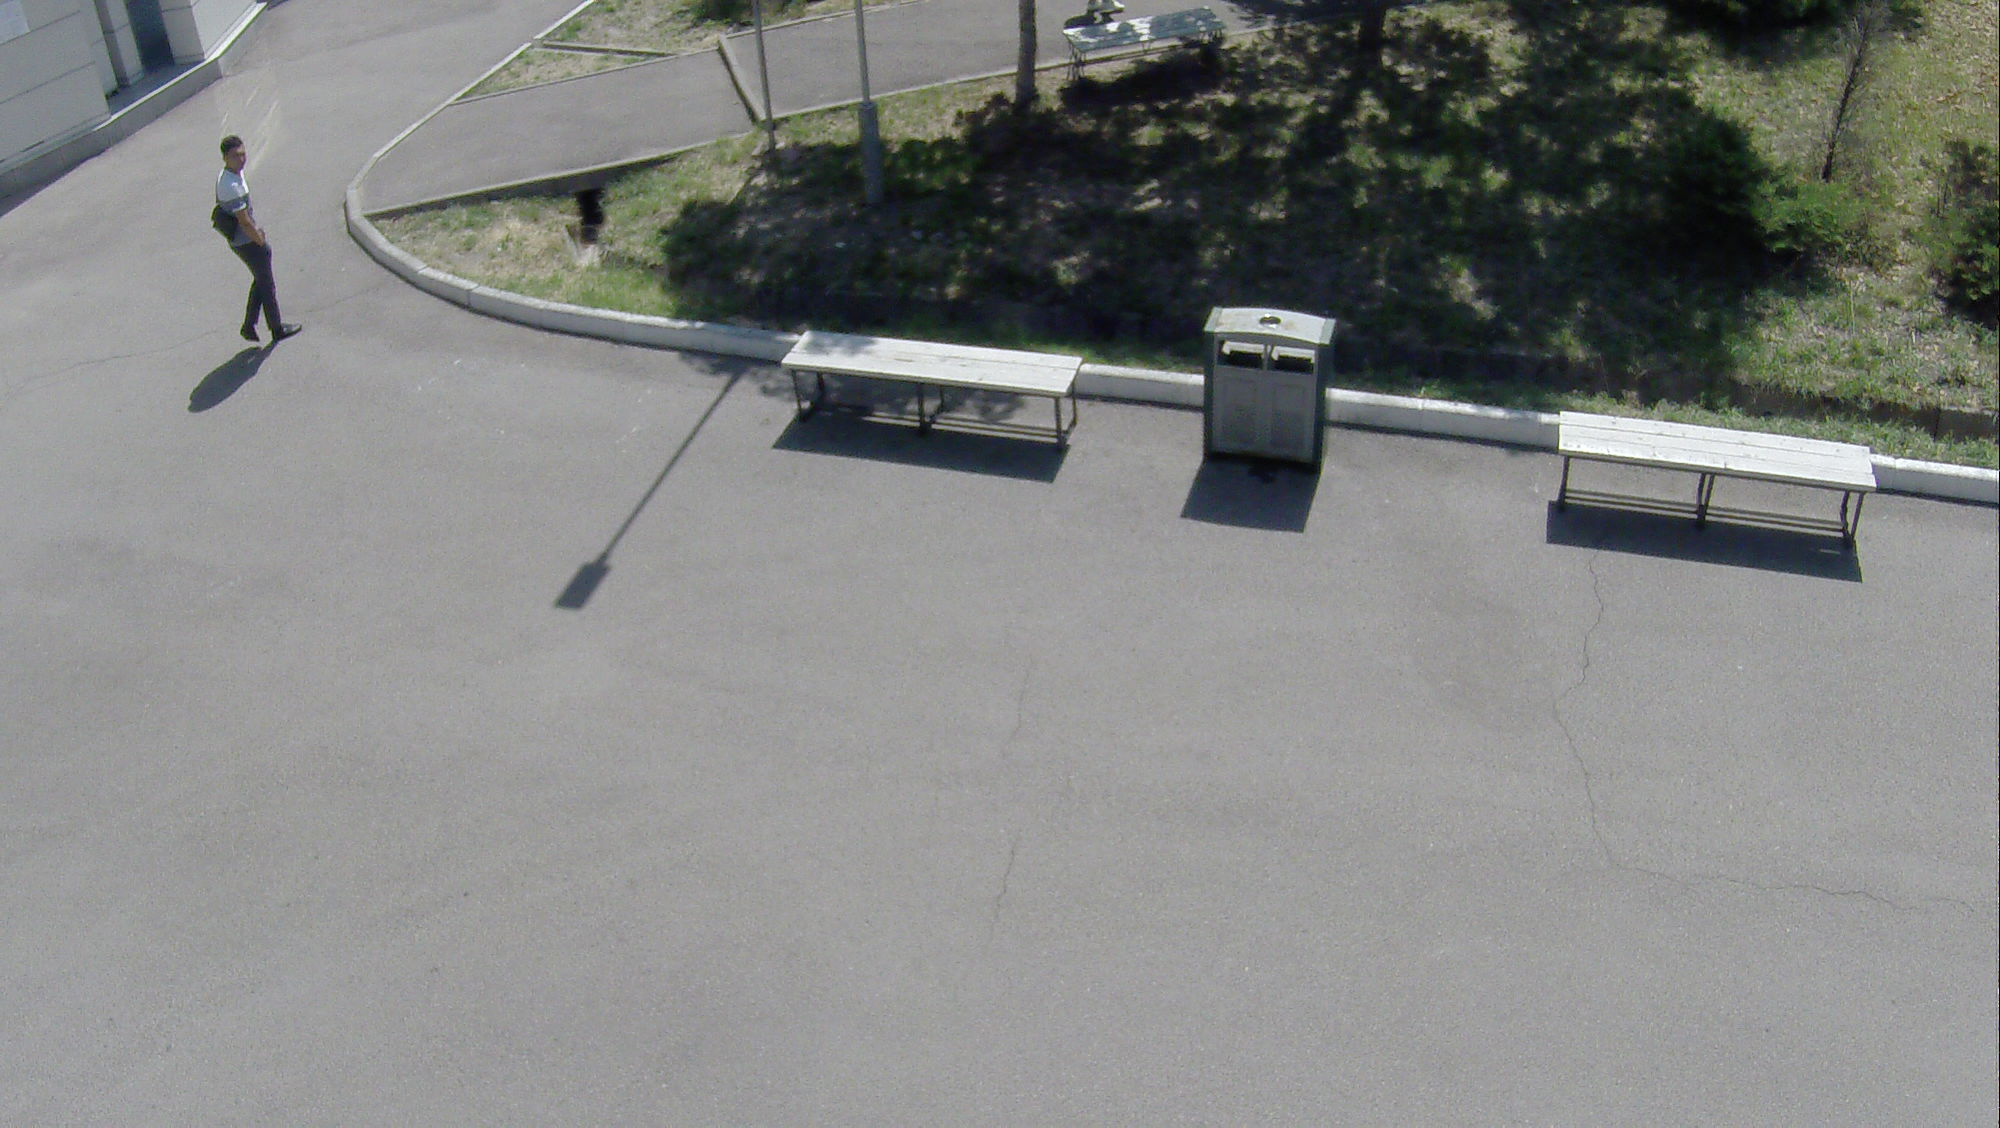person: (189, 128, 305, 358)
